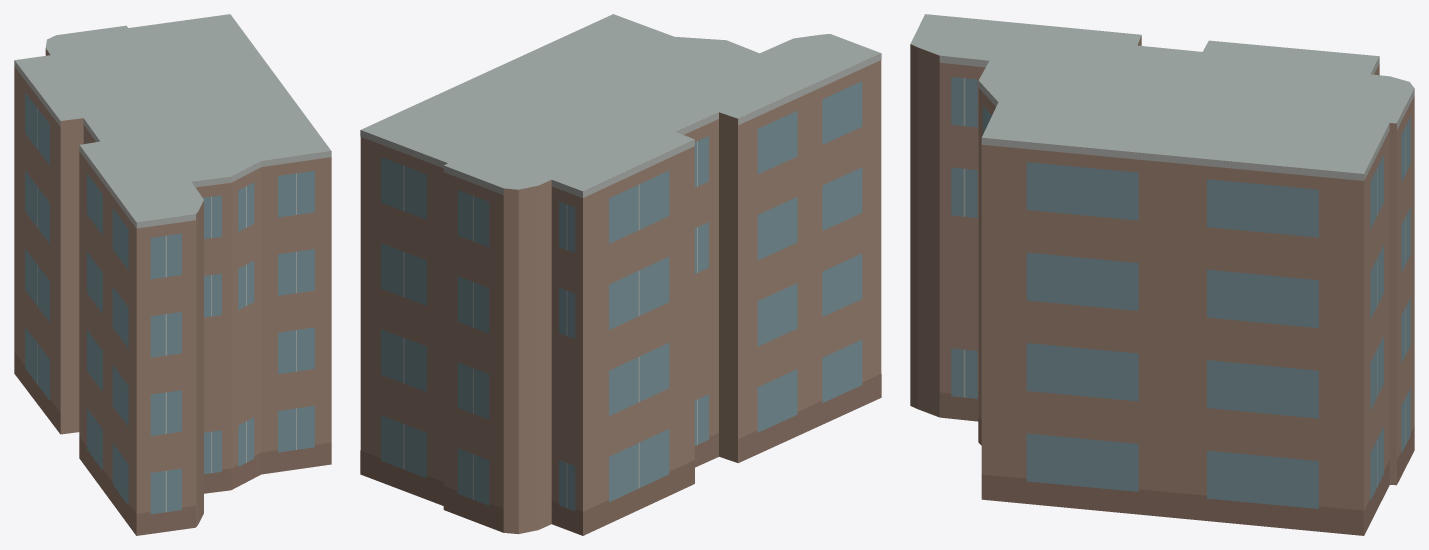
File: survey-upis-32656328.glb
3 renders of one model, left to right at view 1: azimuth 30°, elevation 25°; view 2: azimuth 150°, elevation 25°; view 3: azimuth 270°, elevation 25°, orthographic. The views are drawn at different scales.
Parts seen in each view (by area): view 1: survey-upis-32656328.tmp; view 2: survey-upis-32656328.tmp; view 3: survey-upis-32656328.tmp.
Part boxes in pixels (x1=…): survey-upis-32656328.tmp: x1=14, y1=14, x2=331, y2=535; survey-upis-32656328.tmp: x1=360, y1=14, x2=881, y2=535; survey-upis-32656328.tmp: x1=910, y1=14, x2=1414, y2=535.
Bounding box in the file's own units: 11.92 × 12.56 × 15.87.
